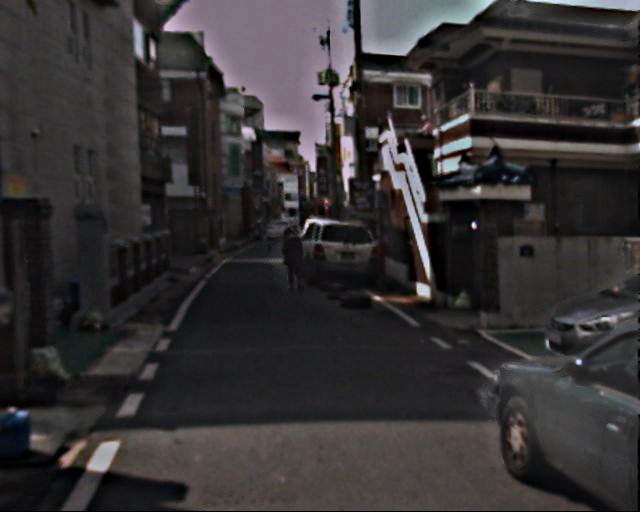person: (280, 226, 307, 293)
